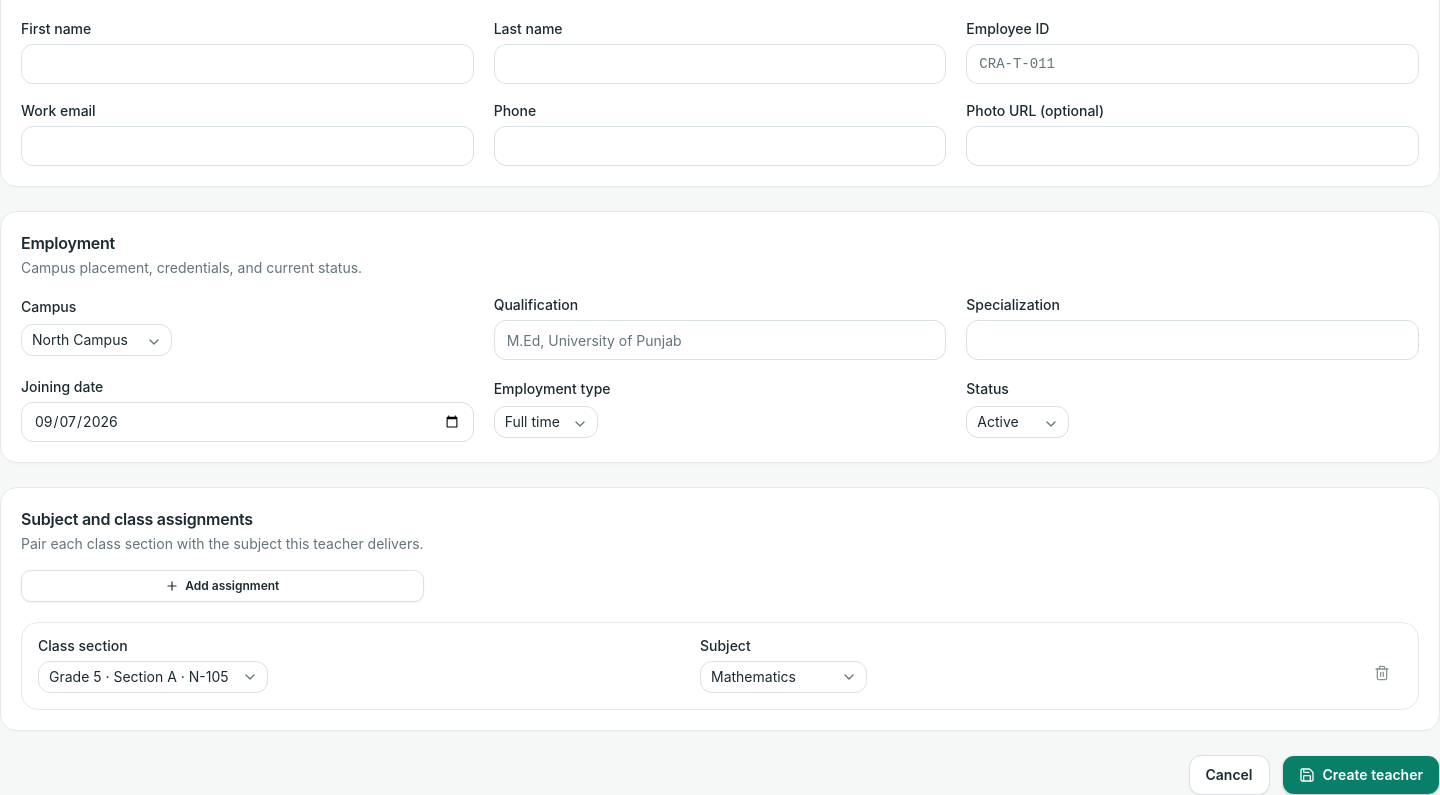
Test: TeacherFormPage › validates identity, contact, and credential fields
This screenshot has width=1440, height=795.
(page scrolled)
Click the button "Create teacher".
click(1361, 776)  # box [1282,756,1439,794]
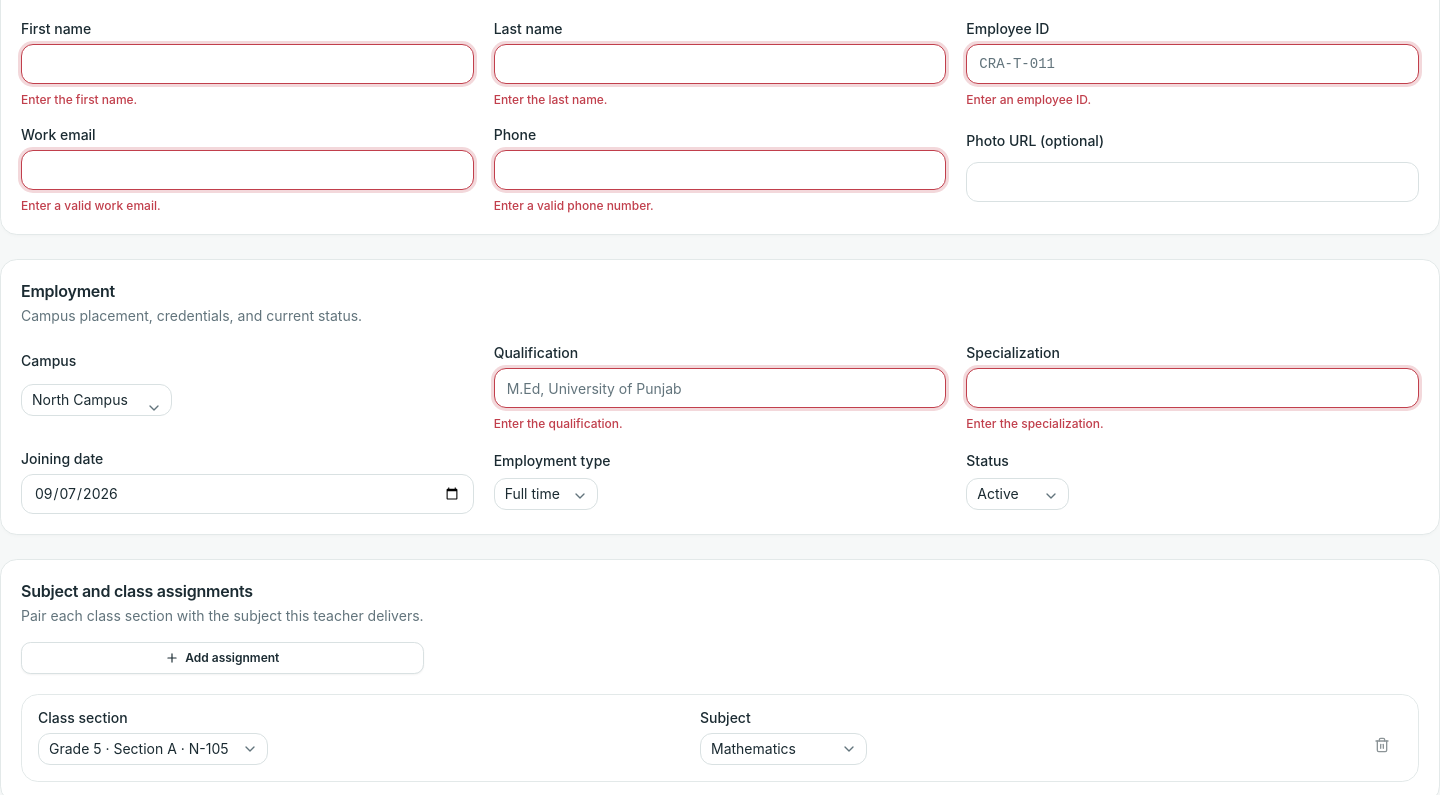
expect the text "Enter the first name." is shown: met, box [21,92,137,108]
expect the text "Enter an employee ID." is shown: met, box [966,92,1091,108]
expect the text "Enter a valid work email." is shown: met, box [21,198,161,214]
